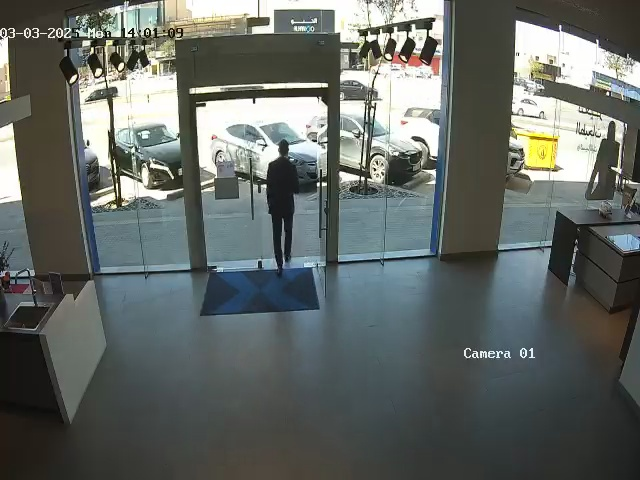employee: (266, 138, 300, 272)
